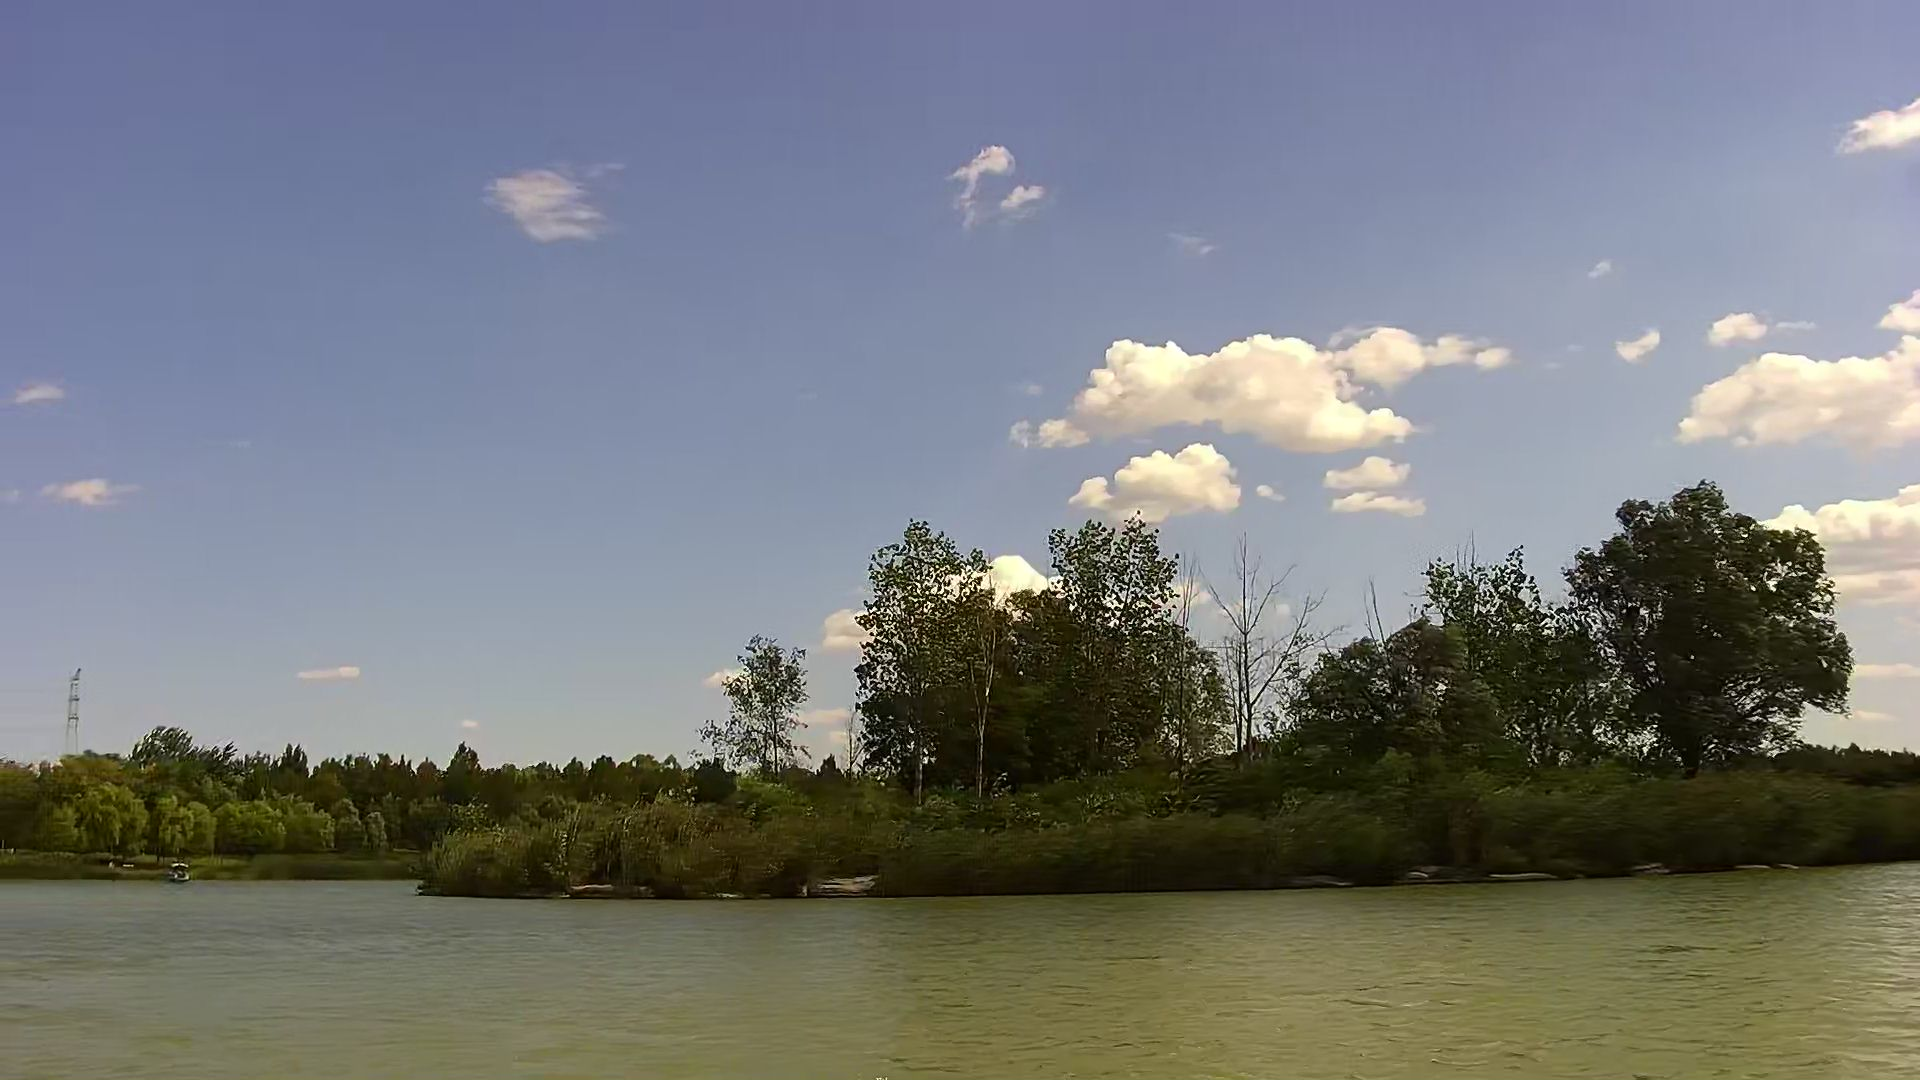rock: (804, 870, 878, 895), (568, 880, 632, 891)
